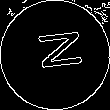N_W: (27, 32, 83, 78)
